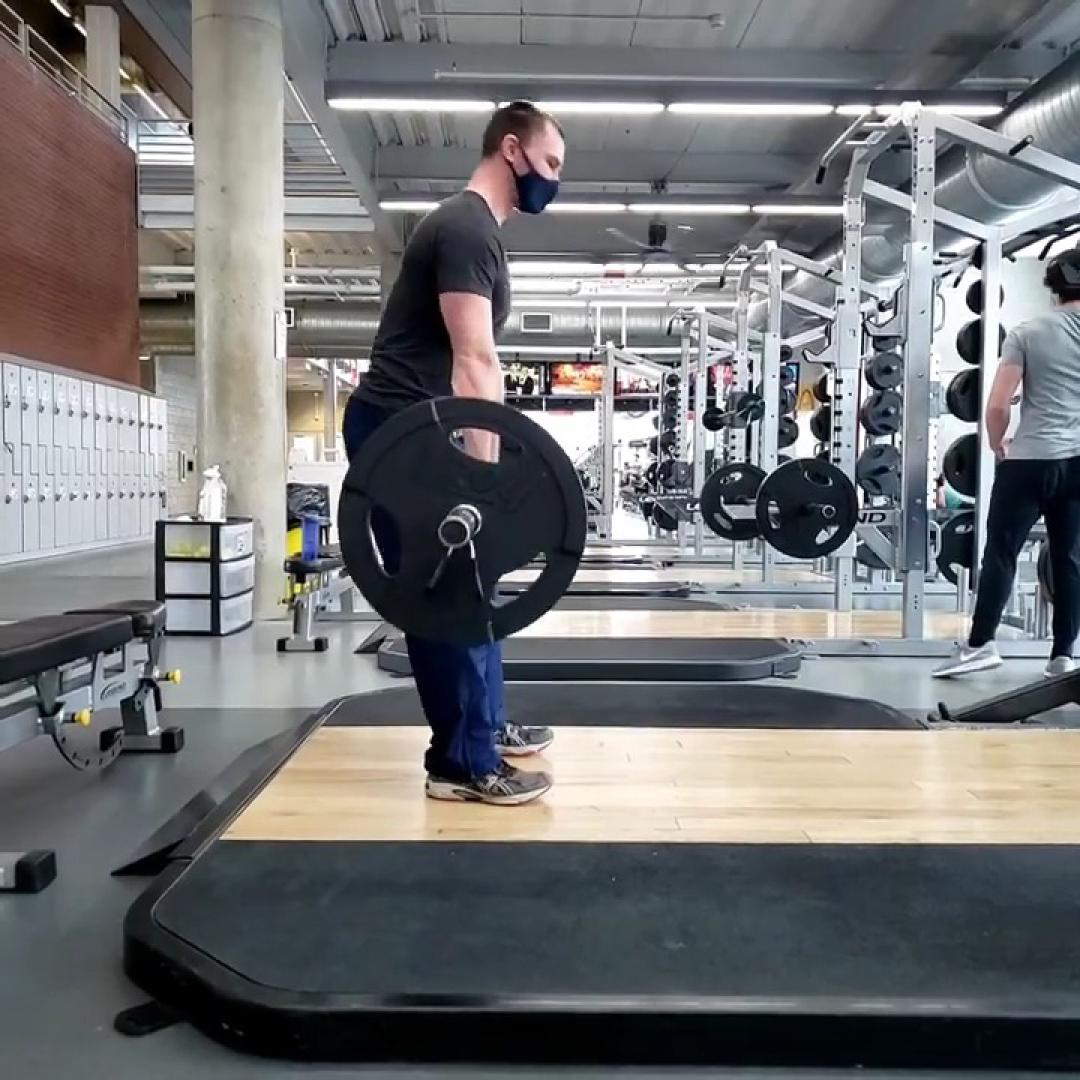Bar: (438, 516, 470, 548)
Barbell: (338, 396, 586, 645)
